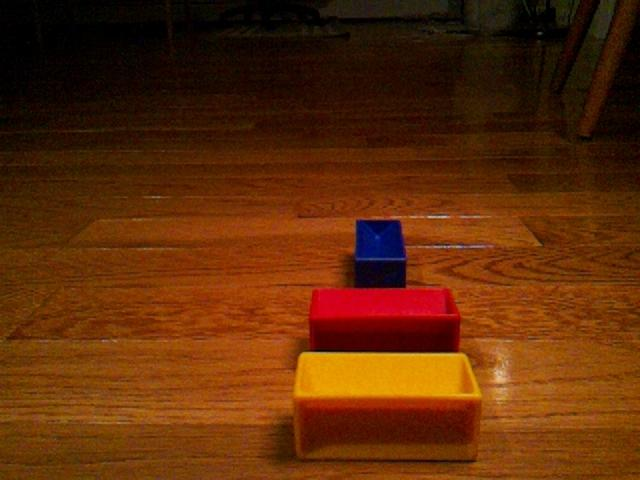blue: (353, 217, 408, 288)
red: (308, 285, 462, 352)
yellow: (292, 350, 483, 463)
